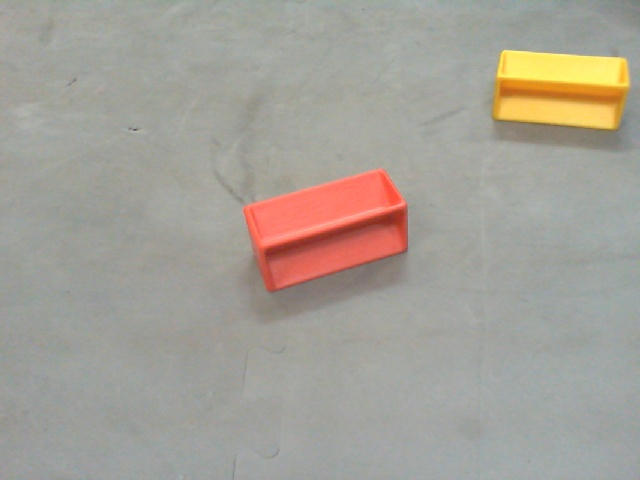RedSample: (247, 172, 411, 290)
YellowSample: (492, 45, 631, 134)
